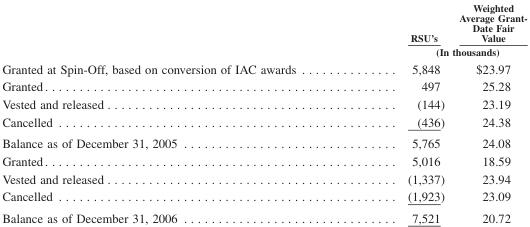table: (1, 1, 526, 224)
table column: (1, 1, 351, 224), (351, 1, 451, 224), (451, 1, 526, 224)
table column header: (1, 1, 526, 59)
table row: (1, 1, 526, 44), (1, 112, 526, 132), (1, 132, 526, 151), (1, 187, 526, 206), (1, 59, 526, 77), (1, 94, 526, 112), (1, 151, 526, 169), (1, 169, 526, 187), (1, 206, 526, 224), (1, 77, 526, 94), (1, 44, 526, 59)
table spanning cell: (351, 44, 526, 59)
